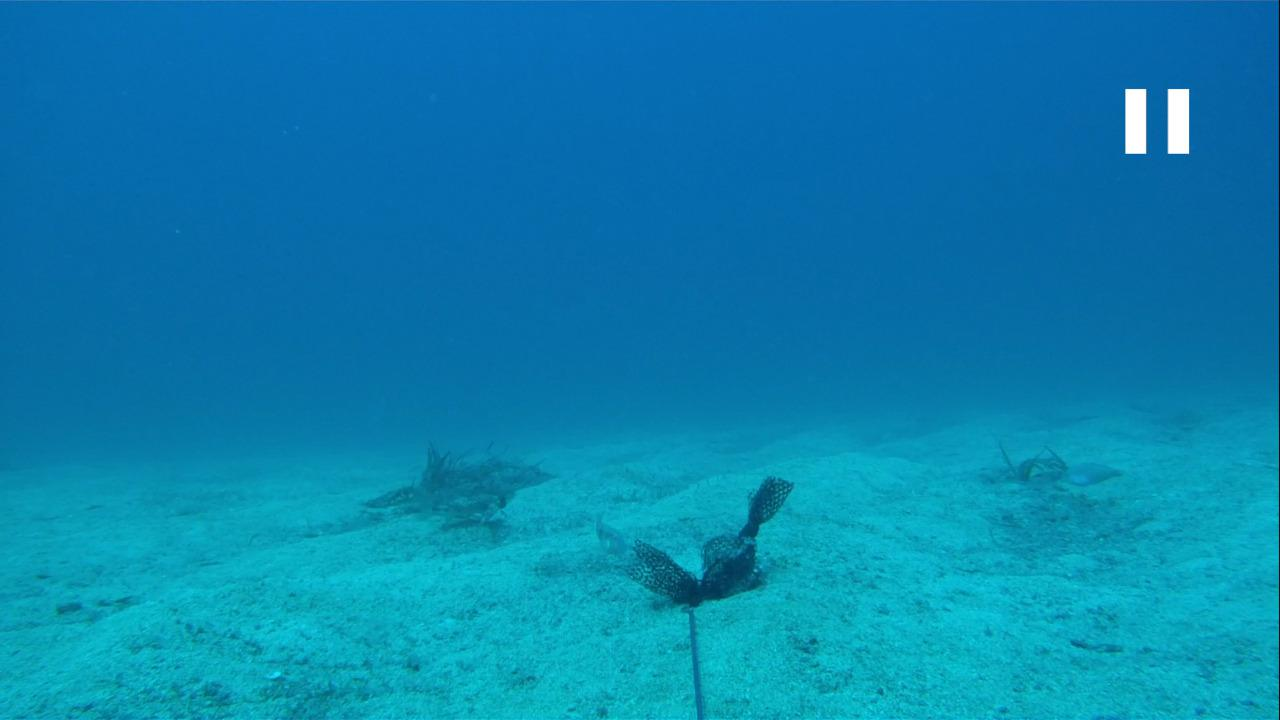dactylopterus: (408, 489, 518, 545)
raor: (1057, 458, 1125, 485)
